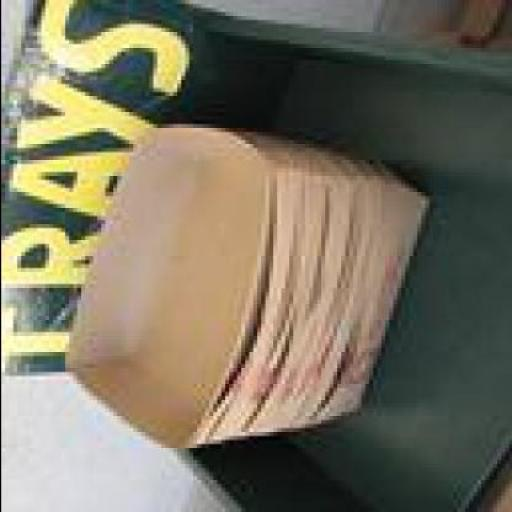cardboard: (60, 128, 424, 455), (64, 128, 272, 448)
